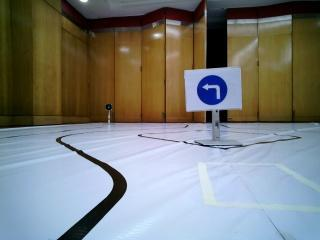left: (183, 69, 241, 109)
